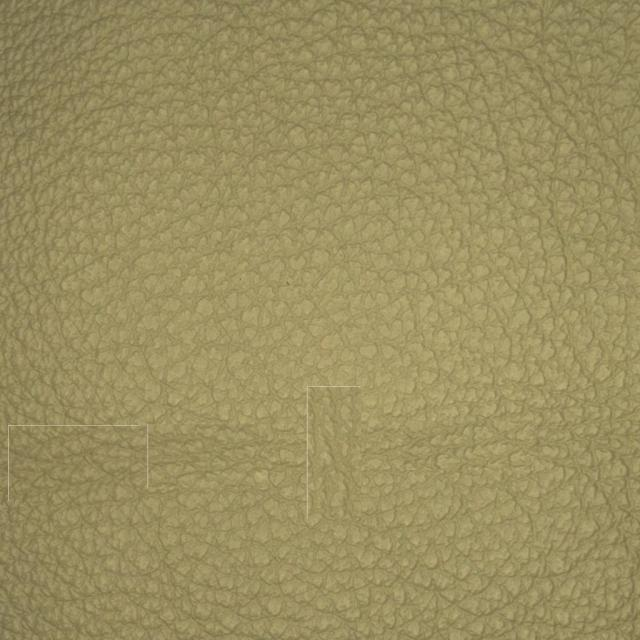Healed Injury: (286, 363, 412, 554), (12, 402, 208, 521)
